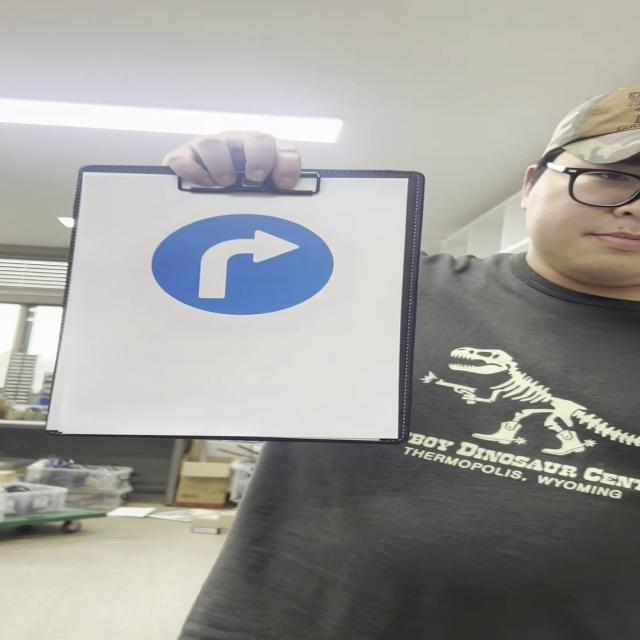right: (152, 213, 333, 317)
